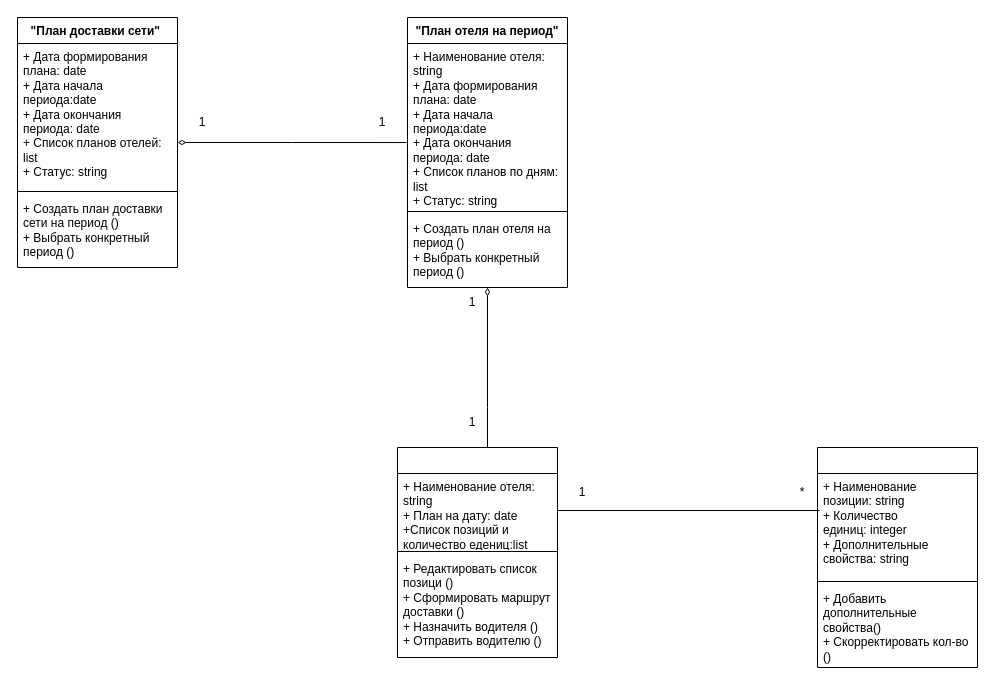
The diagram is 995 pixels wide and 688 high, and some of its shapes have lost their labels. The shapes that lost their labels are listed below. From the top down, each one's box as (x1, y1, x2, y2) in pixels, then its label:
(396, 446, 558, 658): "План доставки для отеля на ден ь"
(816, 446, 978, 668): "Номенклатура (тканевое изделие)"
